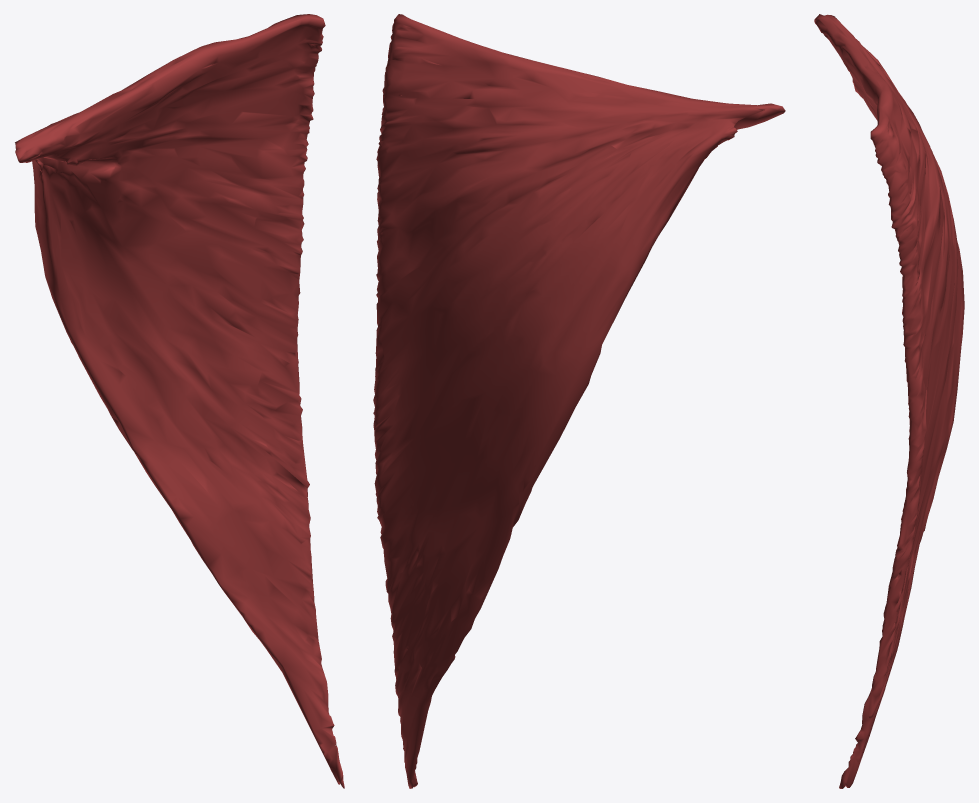
The model's file is descending-part-of-trapezius-muscle-r.glb.
The picture shows the model from 3 angles, left to right: view 1: azimuth 30°, elevation 25°; view 2: azimuth 150°, elevation 25°; view 3: azimuth 270°, elevation 25°; orthographic projection. The views are drawn at different scales.
Visible parts, largest first — view 1: Descending part of trapezius muscle.r; view 2: Descending part of trapezius muscle.r; view 3: Descending part of trapezius muscle.r.
Boxes of the visible parts, x1,y1,x2,y2 form: Descending part of trapezius muscle.r: (15, 14, 344, 788); Descending part of trapezius muscle.r: (373, 14, 785, 788); Descending part of trapezius muscle.r: (814, 14, 964, 788).
Size of the model in its own units: 0.1388 by 0.2942 by 0.061.
